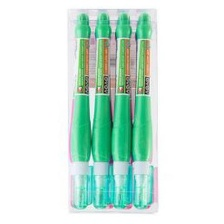correction_fluid: (88, 11, 115, 209), (109, 11, 134, 211), (130, 10, 154, 211), (69, 11, 93, 212)
